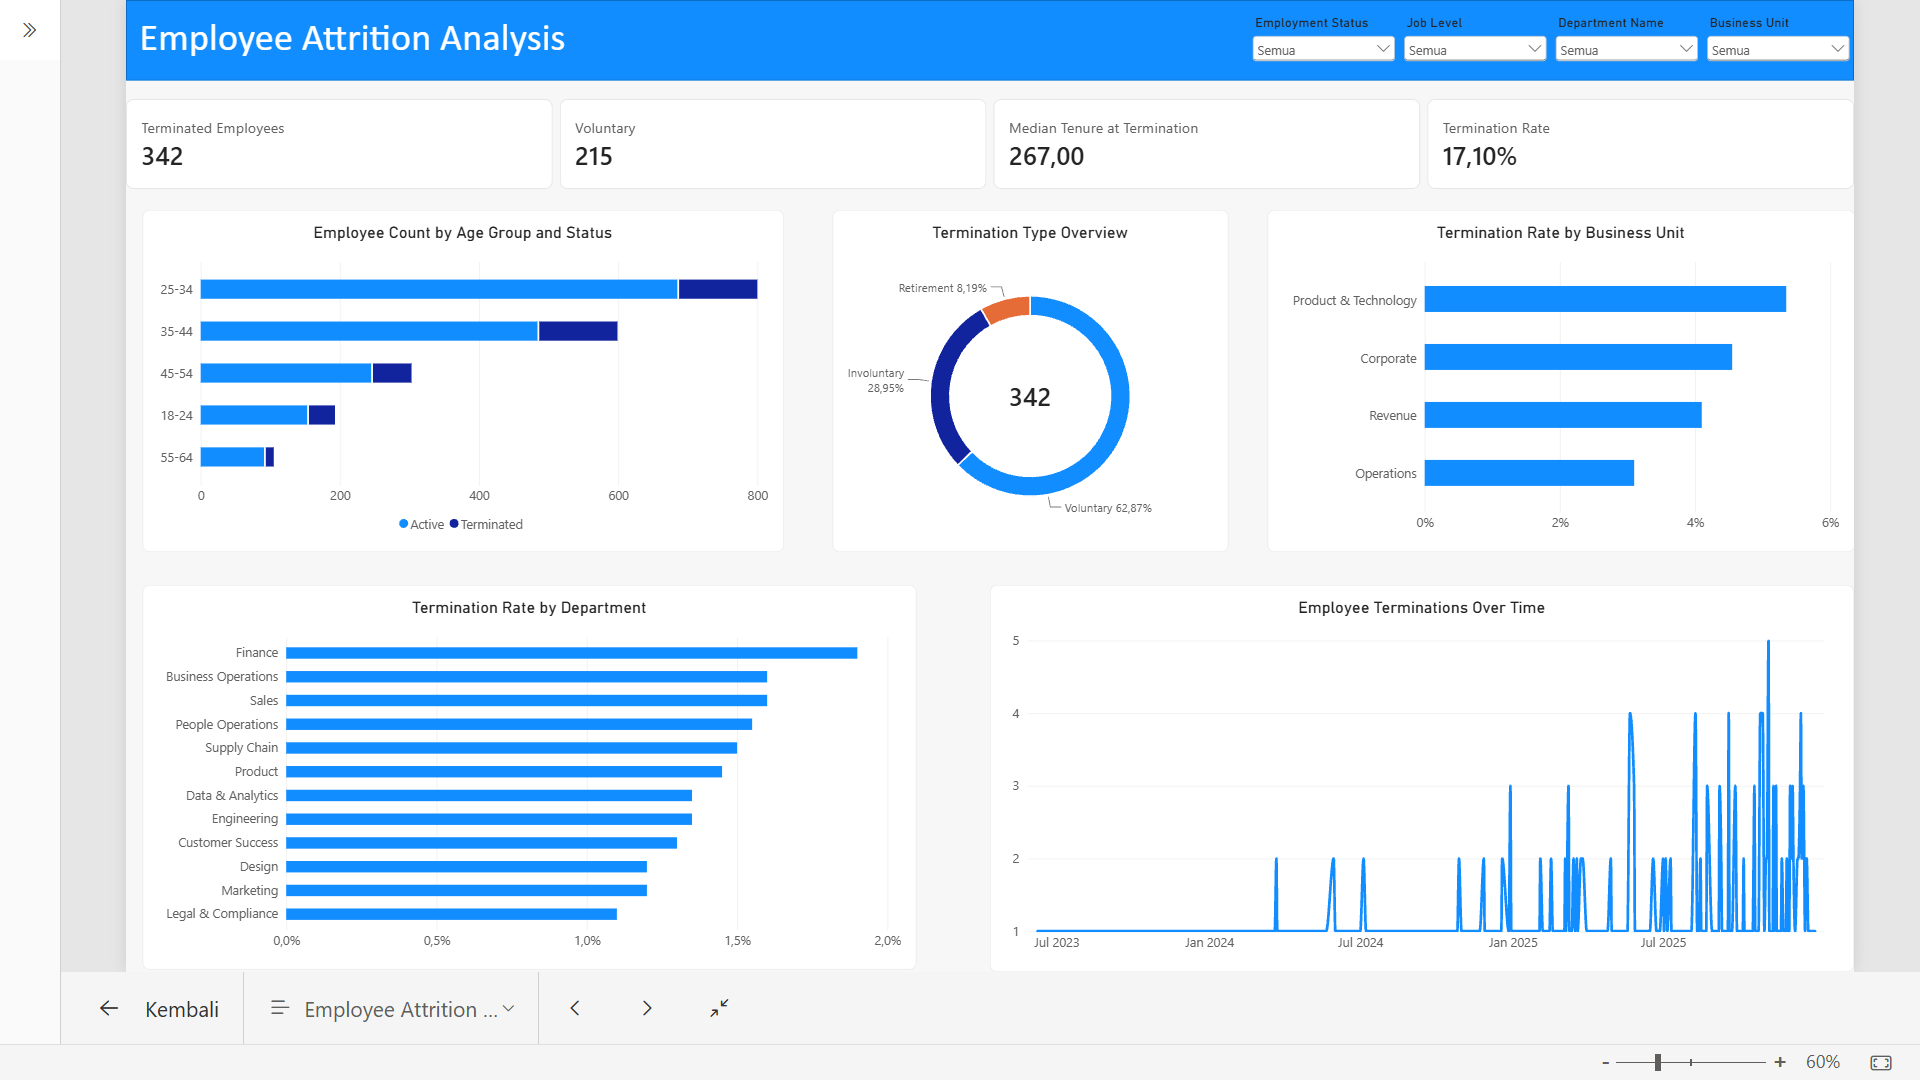

What the dashboard file says about the page in this screenshot:
{"tool":"powerbi","page":{"name":"Employee Attrition Analysis","canvas":[1920,1080],"ordinal":1},"visuals":[{"type":"shape","box":[0,0,1920,89.7],"z":0},{"type":"donutChart","title":"Termination Type Overview","fields":{"Category":["employment_records.termination_type"],"Y":["_DAX.Karyawan Keluar"]},"box":[785,232.5,440,380],"z":1000},{"type":"barChart","title":"Termination Rate by Department","fields":{"Category":["departments.department_name"],"Y":["_DAX.Persentase Karyawan Keluar Departemen"]},"box":[17.5,650,860,427.5],"z":2000},{"type":"barChart","title":"Employee Count by Age Group and Status","fields":{"Category":["employees.age_band"],"Series":["employment_records.employment_status"],"Y":["CountNonNull(employment_records.employee_id)"]},"box":[17.5,232.5,712.5,380],"z":3000},{"type":"cardVisual","fields":{"Data":["_DAX.Karyawan Keluar","_DAX.Resign","_DAX.Median Masa Kerja Keluar","_DAX.Persentase Keluar"]},"box":[0,110,1920,100],"z":4000},{"type":"barChart","title":"Termination Rate by Business Unit","fields":{"Category":["departments.business_unit"],"Y":["_DAX.Persentase Karyawan Keluar Departemen"]},"box":[1267.5,232.5,652.5,380],"z":5000},{"type":"lineChart","title":"Employee Terminations Over Time","fields":{"Category":["employment_records.ended_at"],"Y":["_DAX.Karyawan Keluar"]},"box":[960,650,960,430],"z":6000},{"type":"textbox","box":[70,16,618,74],"z":7000},{"type":"image","box":[0,0,70,90],"z":8000}]}

Visuals, with their boxes on the page's 1920x1080 design canvas (x1, y1, x2, y2). These are canvas units, not pixel positions in the 1920x1080 screenshot, which may show the page scaled, cropped or inside an application window:
shape: (0,0,1920,90)
"Termination Type Overview" donutChart: (785,232,1225,612)
"Termination Rate by Department" barChart: (18,650,878,1078)
"Employee Count by Age Group and Status" barChart: (18,232,730,612)
cardVisual - _DAX.Karyawan Keluar x _DAX.Resign: (0,110,1920,210)
"Termination Rate by Business Unit" barChart: (1268,232,1920,612)
"Employee Terminations Over Time" lineChart: (960,650,1920,1080)
textbox: (70,16,688,90)
image: (0,0,70,90)
